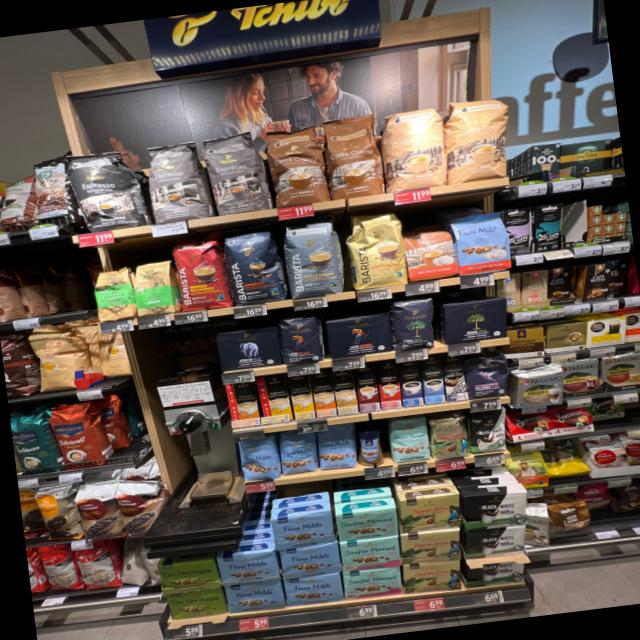AB Gemahlen: (213, 324, 281, 372)
Athiopien Bohne: (91, 266, 137, 322)
Athiopien Gemahlen: (132, 260, 176, 318)
BM Bohne: (391, 294, 438, 350)
BM Gemahlen: (441, 295, 512, 346)
BW Bohne: (468, 408, 510, 454)
BW Gemahlen: (462, 486, 532, 532), (462, 522, 528, 562)
Barista CB: (346, 208, 408, 290)
Barista CC: (282, 218, 346, 300)
Barista Espresso: (221, 228, 287, 306)
Barista Kolumbien: (168, 237, 232, 314)
C Fino Bohne: (464, 350, 511, 400)
CC Mild: (442, 90, 515, 184), (377, 104, 450, 192)
CC Vollmundig: (402, 222, 458, 282)
CC Vollmundig 36 Pads: (318, 111, 386, 202), (262, 122, 330, 208)
Colombia BB Bohne: (428, 414, 470, 461)
Colombia BB Gemahlen: (398, 492, 463, 534), (398, 525, 464, 566), (400, 558, 462, 596)
Espresso Aromatisch: (198, 132, 270, 216), (145, 138, 208, 222)
Espresso S Art: (63, 146, 146, 233)
FM 36 Pads: (448, 210, 512, 276)
FM Bohne: (236, 436, 281, 482), (316, 422, 358, 471), (279, 428, 318, 474)
FM Gemahlen: (268, 510, 336, 550), (278, 540, 342, 580), (216, 549, 282, 586), (224, 579, 285, 614), (283, 573, 344, 608)
FM Instant: (355, 428, 385, 467)
Herzhatfe Mundig: (156, 559, 221, 596), (164, 587, 229, 620)
LG Bohne: (276, 312, 325, 366)
LG Gemahlen: (324, 311, 394, 360)
SM Bohne: (388, 416, 432, 464)
SM Gemahlen: (339, 534, 402, 572), (334, 506, 398, 543), (342, 564, 404, 601)
Simo CCMild: (255, 374, 292, 424)
Simo CCMild bigpack: (289, 374, 315, 421)
Simo CCVollmundig: (224, 380, 260, 428)
Simo CCVollmundig bigpack: (311, 369, 336, 417)
Simo Decaff: (332, 367, 358, 415)
Simo Es Brazil: (376, 360, 402, 410)
Simo Es Caramel: (354, 366, 380, 412)
Simo Es Elegant: (441, 351, 467, 402)
Simo Es Kraft: (399, 361, 424, 406)
Simo Es Vanilla: (420, 354, 445, 404)
